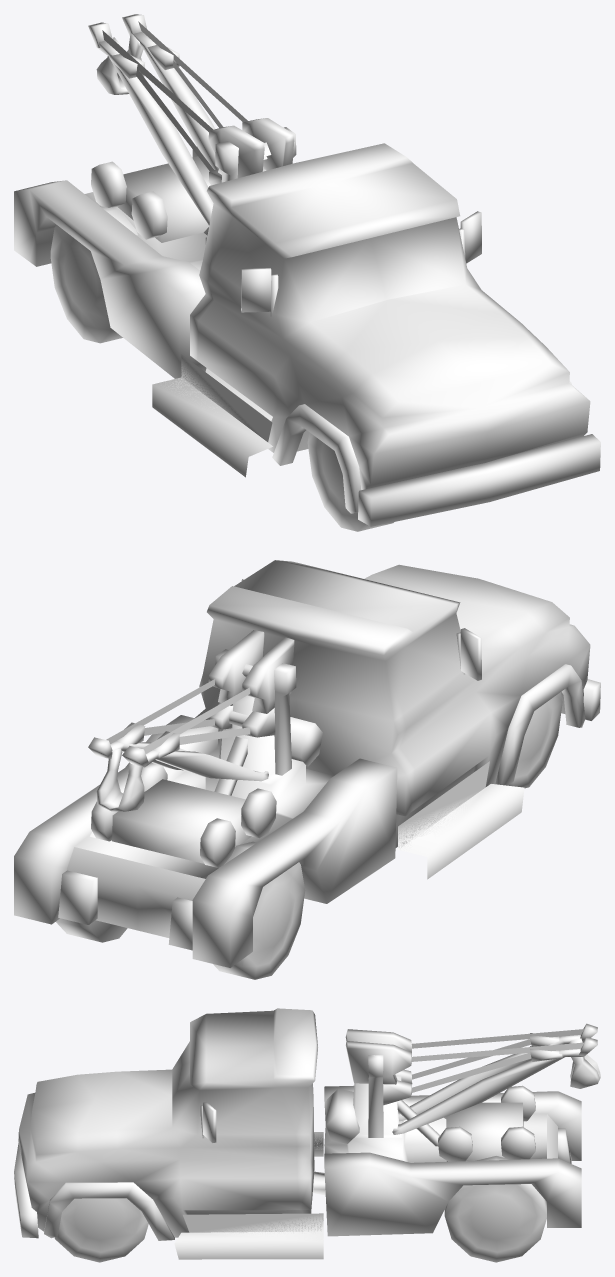
File: carJacker.glb
3 views of the same model, one above another, from view 1: azimuth 30°, elevation 25°; view 2: azimuth 150°, elevation 25°; view 3: azimuth 270°, elevation 25° (orthographic). The views are drawn at different scales.
Visible parts, largest first — view 1: car_Jacker; view 2: car_Jacker; view 3: car_Jacker.
Part boxes in pixels (<box>): car_Jacker: <box>14,14,600,531</box>; car_Jacker: <box>14,560,600,979</box>; car_Jacker: <box>14,1008,600,1262</box>.
Size of the model in its own units: 2.77 by 2.42 by 6.62.
Materials: 3 (3 with a texture image).
